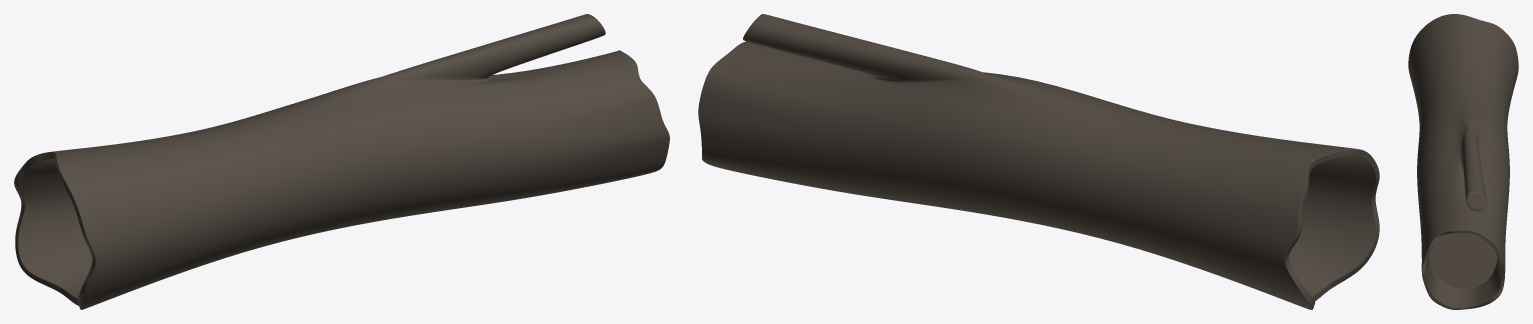
File: log.fbx
3 renders of one model, left to right at view 1: azimuth 30°, elevation 25°; view 2: azimuth 150°, elevation 25°; view 3: azimuth 270°, elevation 25°, orthographic. The views are drawn at different scales.
Visible parts, largest first — view 1: log; view 2: log; view 3: log.
Boxes of the visible parts, x1,y1,x2,y2 form: log: (14, 14, 669, 309); log: (698, 14, 1379, 309); log: (1408, 14, 1518, 309).
Bounding box in the file's own units: 19.37 × 4.88 × 4.57.
